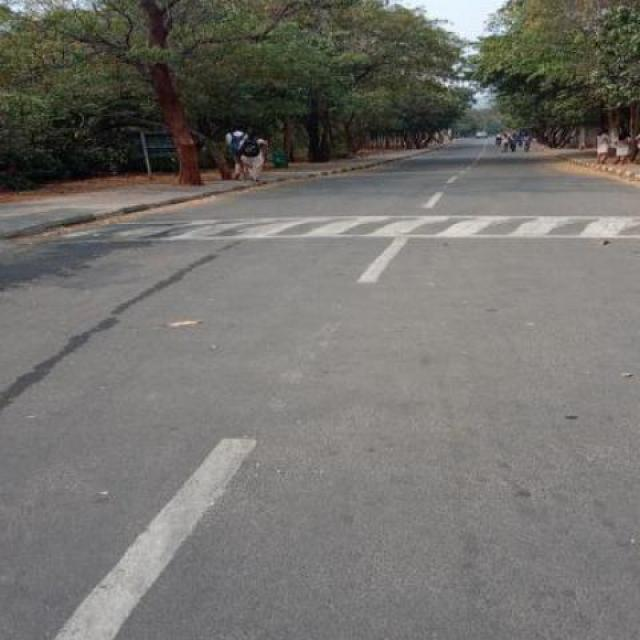Speed Bump: (45, 213, 640, 246)
